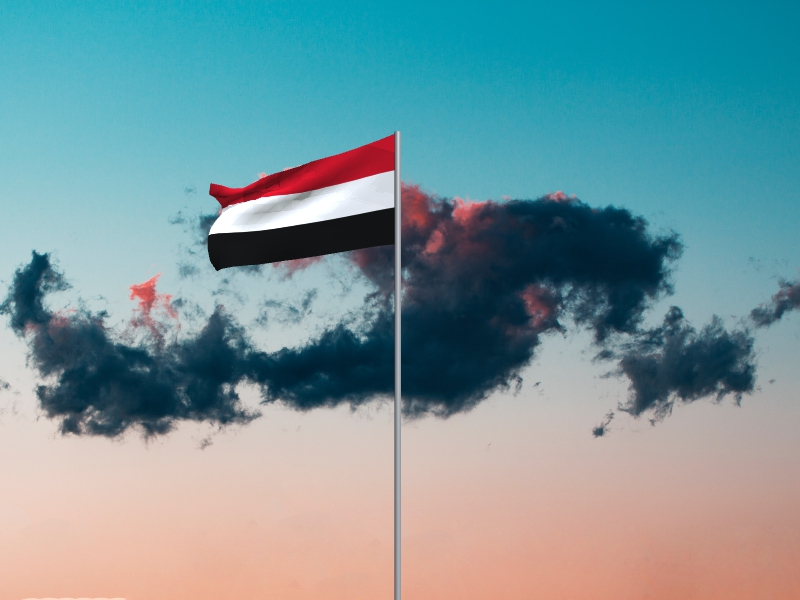ye: (206, 133, 394, 273)
